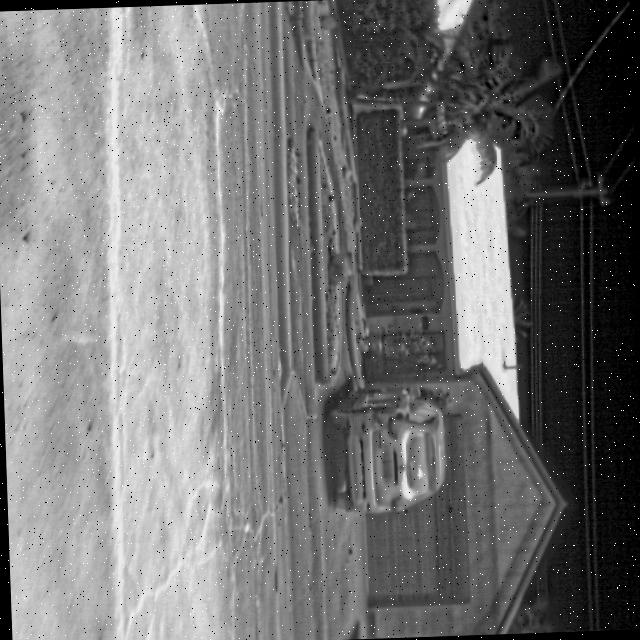Vehicle: (324, 382, 454, 516)
